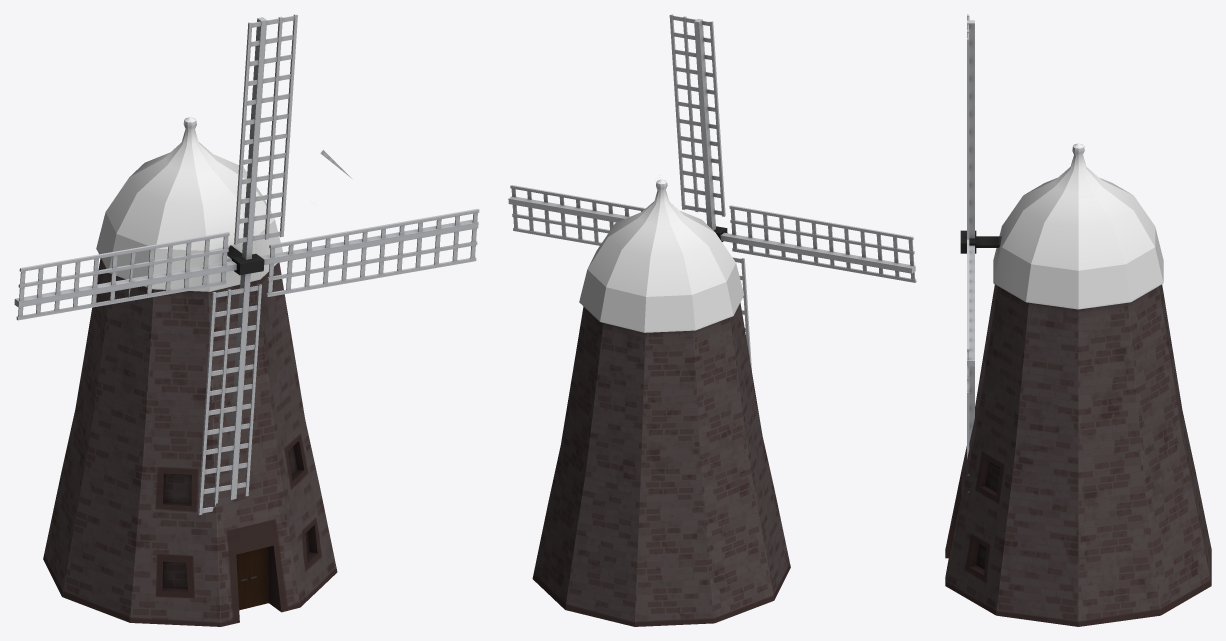
The model's file is windmill.glb.
3 views of the same model, side by side, from view 1: azimuth 30°, elevation 25°; view 2: azimuth 150°, elevation 25°; view 3: azimuth 270°, elevation 25° (orthographic). The views are drawn at different scales.
Visible parts, largest first — view 1: Windmill_Mesh, Windmill_Mesh.blades; view 2: Windmill_Mesh, Windmill_Mesh.blades; view 3: Windmill_Mesh, Windmill_Mesh.blades.
Part boxes in pixels (x1,y1,x2,y2): Windmill_Mesh: (43,117,351,626); Windmill_Mesh.blades: (14,14,479,514); Windmill_Mesh: (532,179,790,626); Windmill_Mesh.blades: (508,14,916,370); Windmill_Mesh: (945,143,1211,626); Windmill_Mesh.blades: (960,14,1001,458).
Bounding box in the file's own units: 7.32 × 8.88 × 3.87.
Materials: 1 (1 with a texture image).
